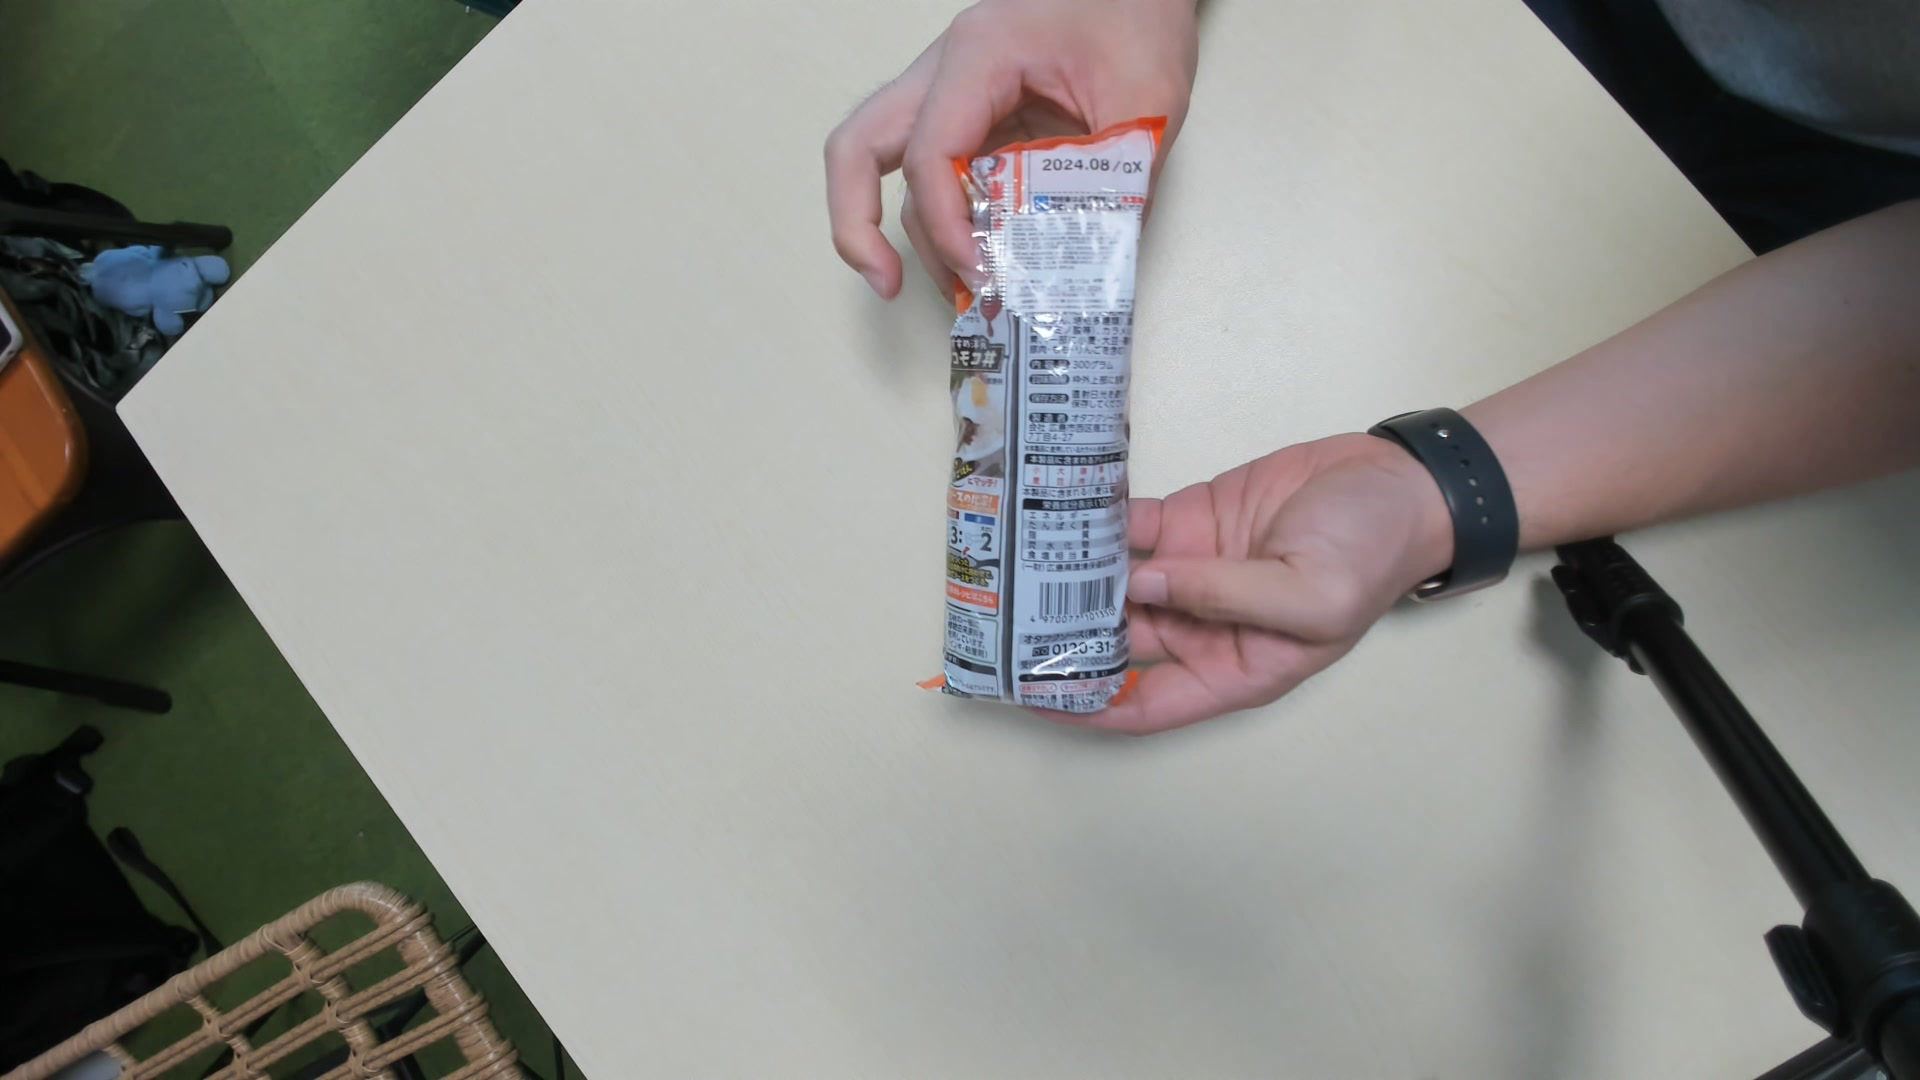OtherSauceDressing_300-399g_NonHalal_NonHealthy: (923, 128, 1139, 715)
